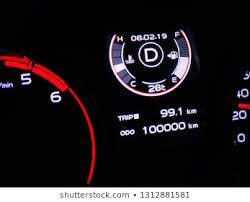Digital_Meter: (137, 122, 201, 135)
